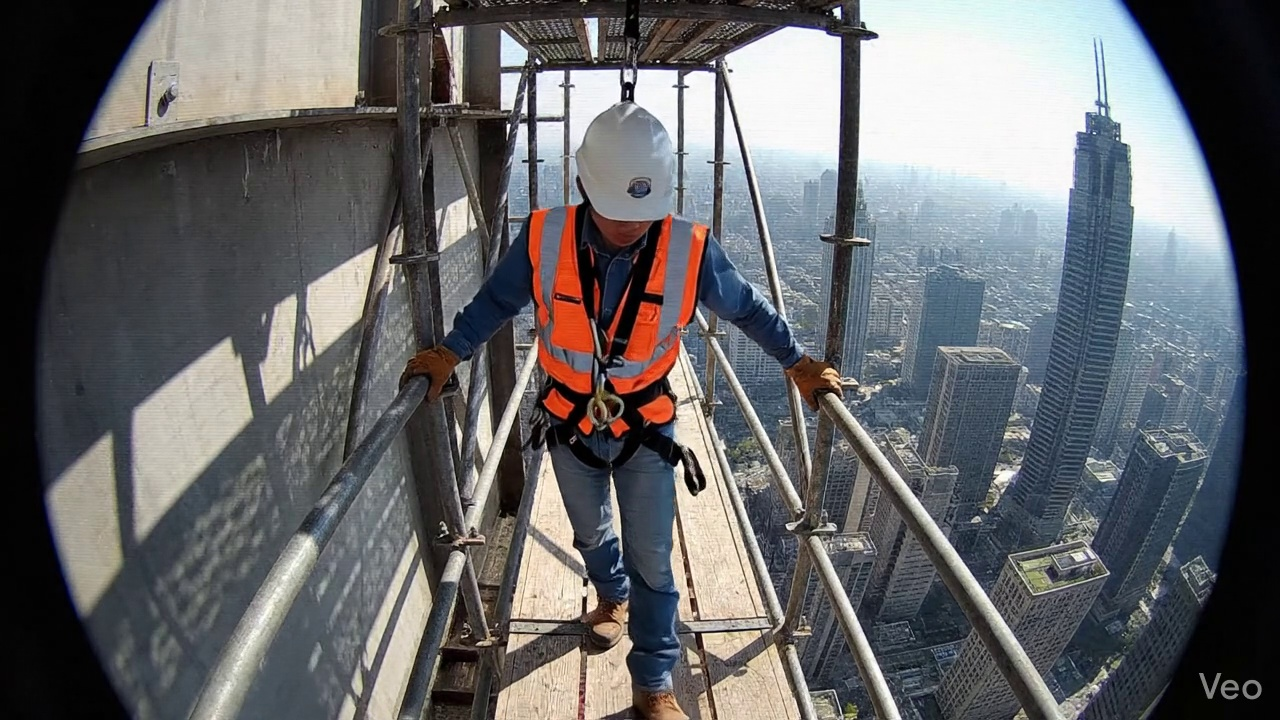person: (401, 100, 840, 719)
